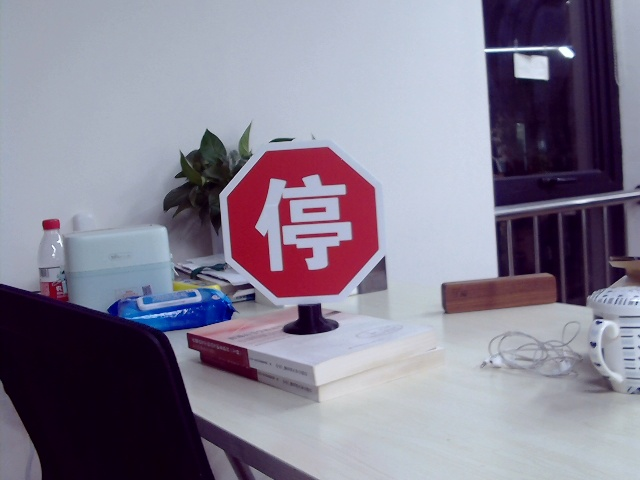stop: (254, 176, 354, 280)
